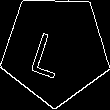L_N: (34, 21, 77, 78)
